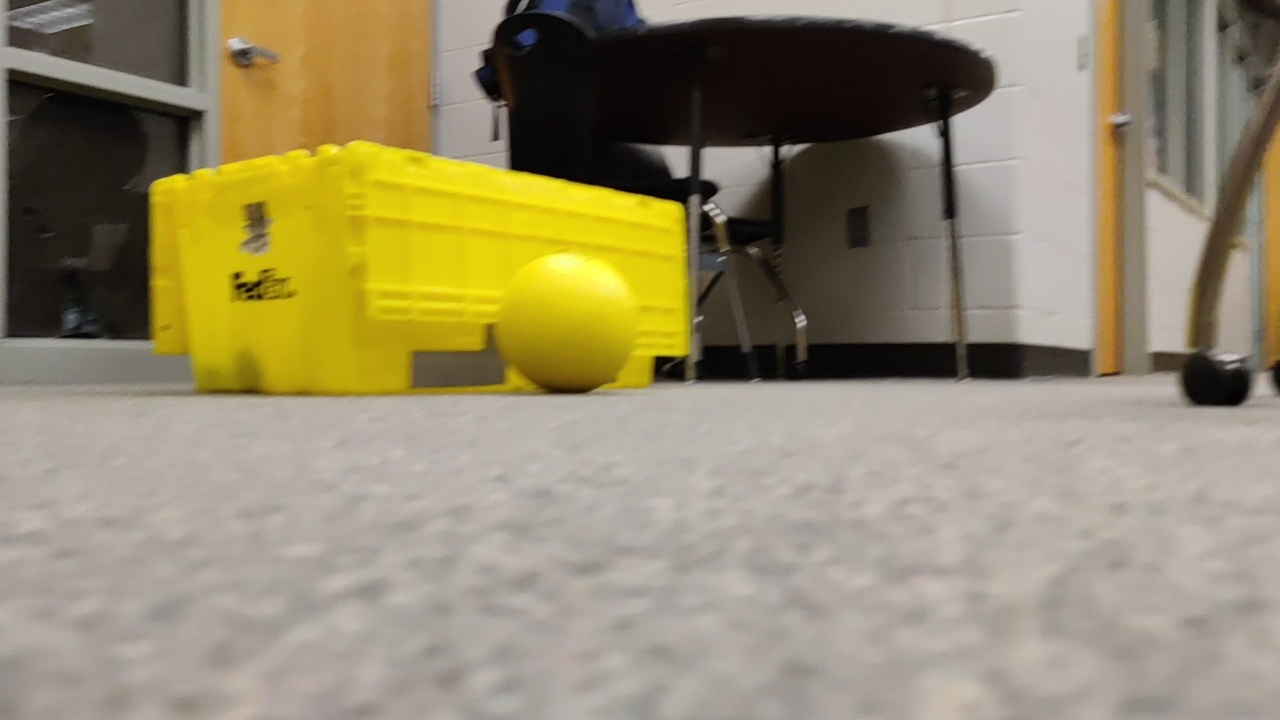Ball: (502, 247, 638, 404)
